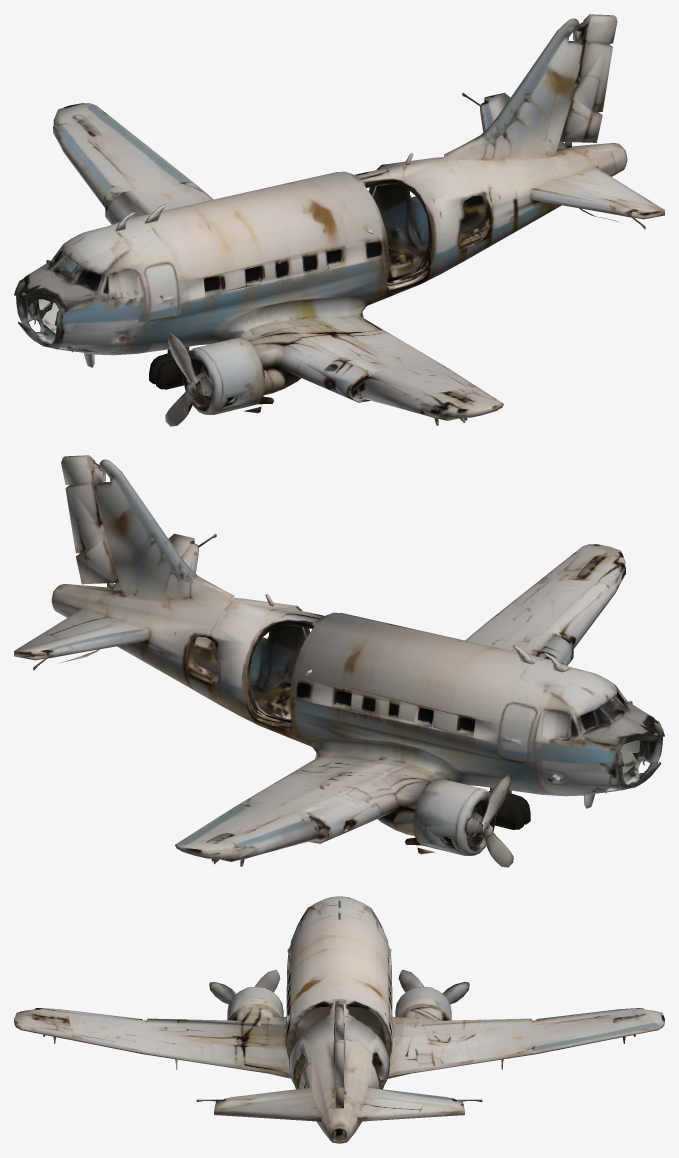
File: crashed_prop_plane_that_would_fit_in_a_junkyard_e68cfeb9_v4.glb
3 renders of one model, top to bottom at view 1: azimuth 30°, elevation 25°; view 2: azimuth 150°, elevation 25°; view 3: azimuth 270°, elevation 25°, orthographic. The views are drawn at different scales.
Parts seen in each view (by area): view 1: material; view 2: material; view 3: material.
Part boxes in pixels (x1,y1,x2,y2): material: (14,14,664,426); material: (14,455,664,867); material: (14,896,664,1143).
Size of the model in its own units: 1.59 by 0.6776 by 1.9.
1 material, 1 textured.
